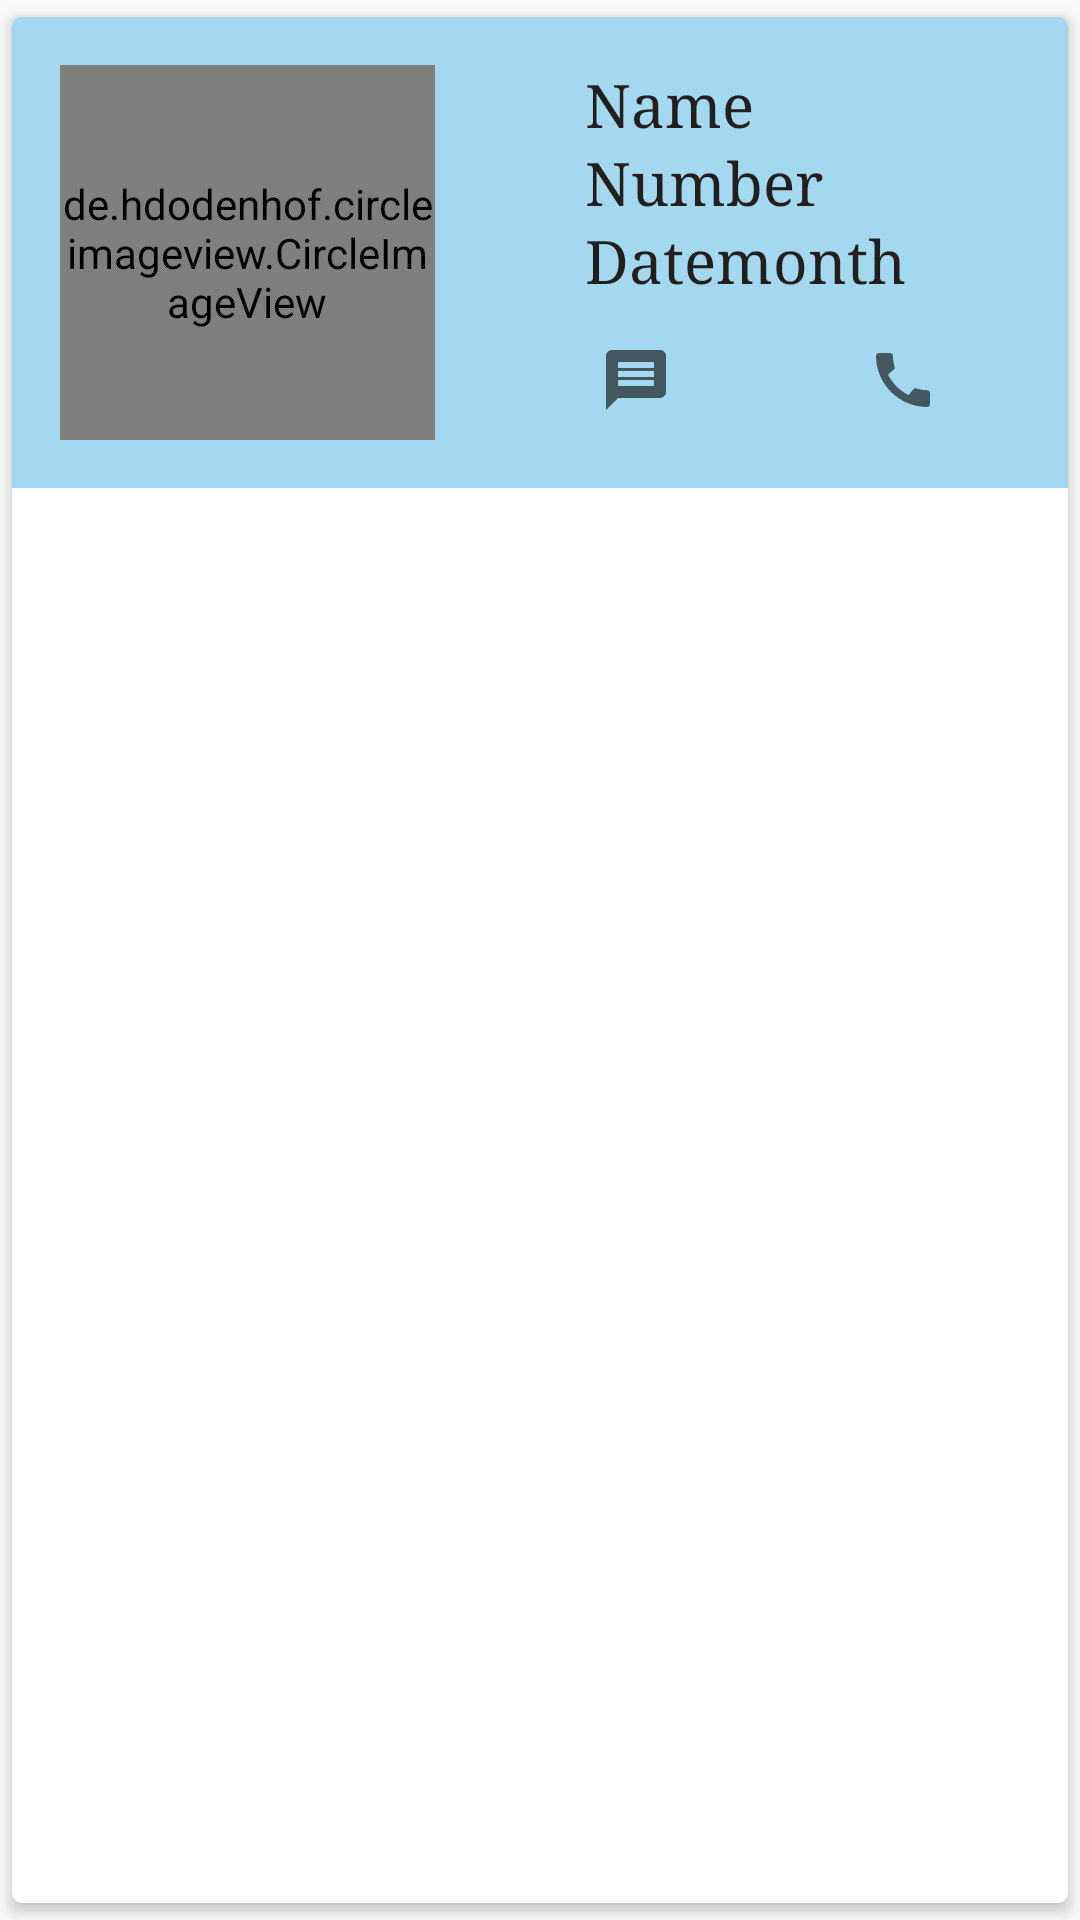

Named icons in this screenshot (1080 × 1920) and their centers, point (x, y):
call: point (903, 380)
message: point (636, 380)
